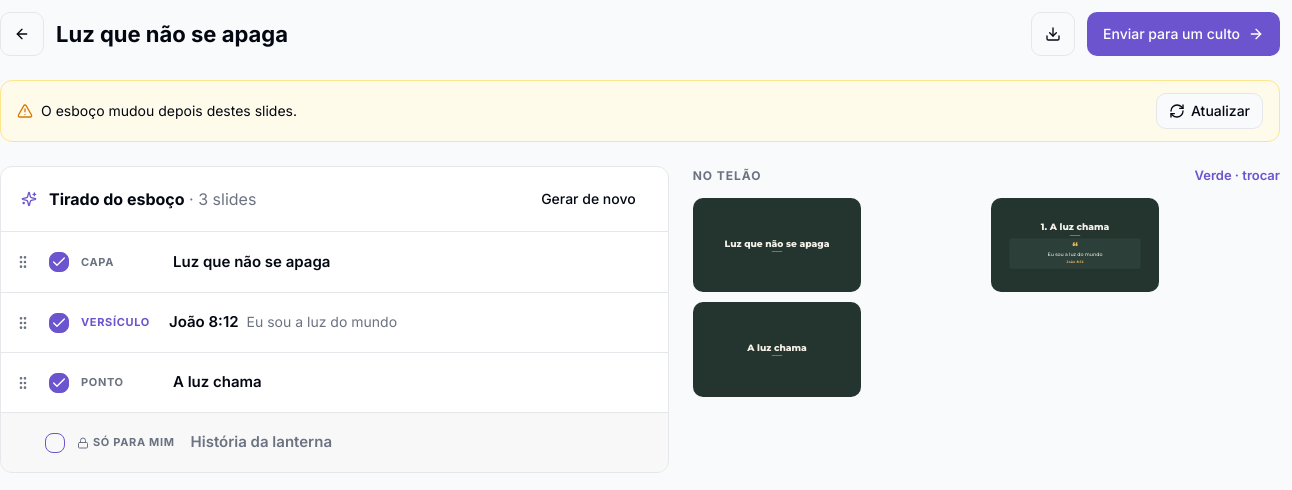
SermonSlidesPage › esboço alterado: aviso e Atualizar gera com o modo atual
This screenshot has width=1292, height=490.
Expected: the text "O esboço mudou depois destes slides." is shown, x1=17 y1=101 x2=297 y2=121
Click the button "Atualizar".
click(1210, 111)  # box x1=1156 y1=93 x2=1263 y2=129
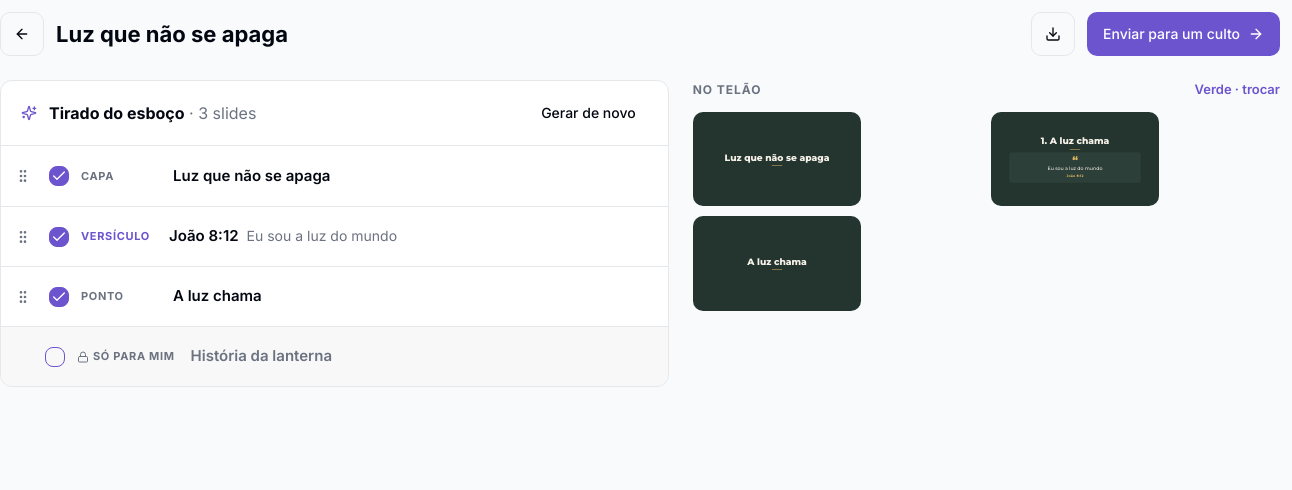
Expected: the text "O esboço mudou depois destes slides." is gone
